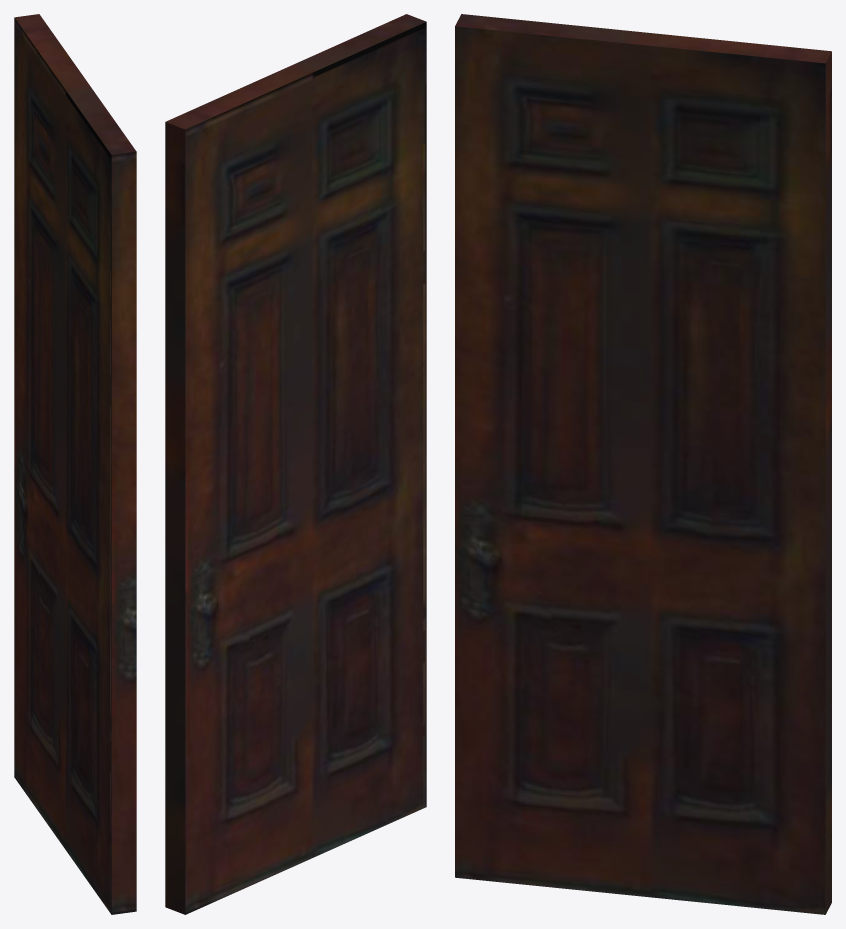
Rendered from Kitchen_GEO_GRP1_Door.obj.
The picture shows the model from 3 angles, left to right: view 1: azimuth 30°, elevation 25°; view 2: azimuth 150°, elevation 25°; view 3: azimuth 270°, elevation 25°; orthographic projection. The views are drawn at different scales.
Visible parts, largest first — view 1: Kitchen_GEO_GRP1_Door; view 2: Kitchen_GEO_GRP1_Door; view 3: Kitchen_GEO_GRP1_Door.
Part boxes in pixels (x1=…): Kitchen_GEO_GRP1_Door: x1=14, y1=14, x2=136, y2=914; Kitchen_GEO_GRP1_Door: x1=165, y1=14, x2=426, y2=914; Kitchen_GEO_GRP1_Door: x1=455, y1=14, x2=831, y2=914.
Size of the model in its own units: 0.276 by 2.22 by 0.8891.
Materials: 1 (1 with a texture image).
